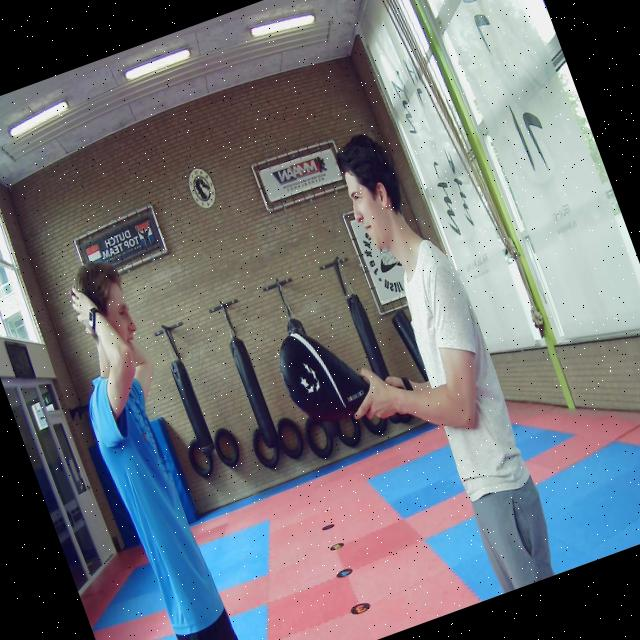paddle: (278, 329, 370, 424)
